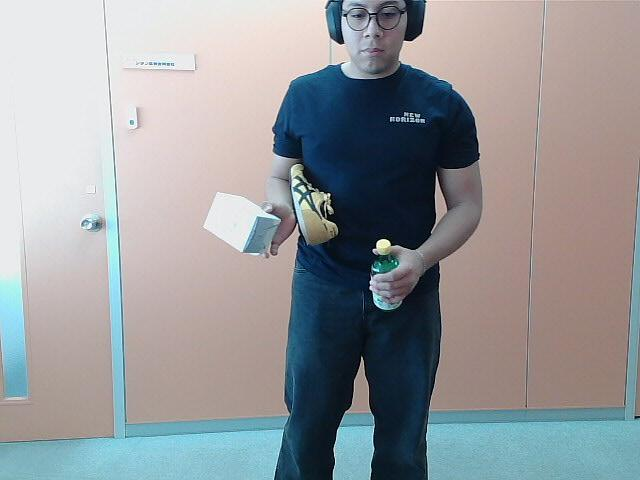Blind_box: (204, 189, 285, 255)
Lemon_sapporo: (366, 234, 414, 312)
Shoes: (286, 161, 344, 244)
